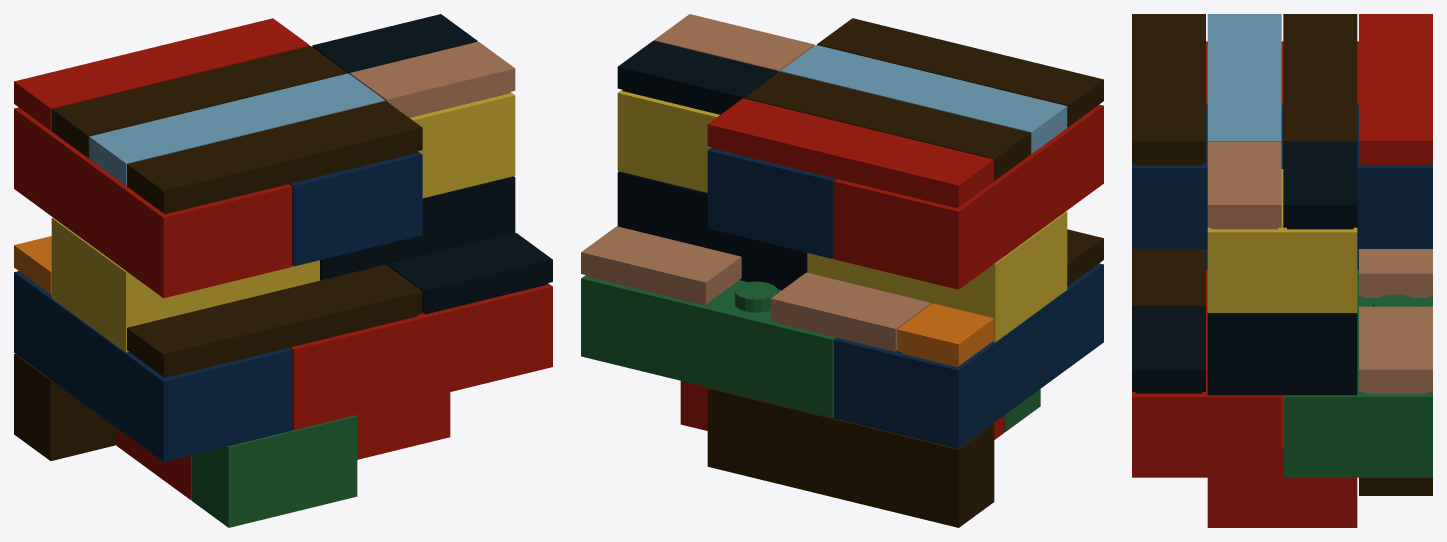
The picture shows the model from 3 angles, left to right: view 1: azimuth 30°, elevation 25°; view 2: azimuth 150°, elevation 25°; view 3: azimuth 270°, elevation 25°; orthographic projection. The views are drawn at different scales.
Parts seen in each view (by area): view 1: 3001_2.3001_2n_3001_2, box5_2.box5_2n_box5_2, 3001_5.3001_5n_3001_5, 3001_4.3001_4n_3001_4, box3u2p_5.box3u2p_5n_box3u2p_5, box3u2p_4.box3u2p_4n_box3u2p_4, box3u2p_6.box3u2p_6n_box3u2p_6, 2431_1.2431_1n_2431_1, 2431_3.2431_3n_2431_3, 2431_5.2431_5n_2431_5, 2431_2.2431_2n_2431_2, 2431_4.2431_4n_2431_4 (+21 smaller); view 2: box4t_1.box4t_1n_box4t_1, 3001_3.3001_3n_3001_3, 3001_4.3001_4n_3001_4, 3001_5.3001_5n_3001_5, box3u2p_5.box3u2p_5n_box3u2p_5, box3u2p_4.box3u2p_4n_box3u2p_4, 3002s01_1.3002s01_1n_3002s01_1, box3u2p_6.box3u2p_6n_box3u2p_6, 2431_4.2431_4n_2431_4, 2431_2.2431_2n_2431_2, 2431_3.2431_3n_2431_3, 2431_5.2431_5n_2431_5 (+21 smaller); view 3: box3u2p_3.box3u2p_3n_box3u2p_3, box5_13.box5_13n_box5_13, box3u2p_2.box3u2p_2n_box3u2p_2, 3002s01_2.3002s01_2n_3002s01_2, 3001_6.3001_6n_3001_6, 2431_3.2431_3n_2431_3, 2431_4.2431_4n_2431_4, 2431_5.2431_5n_2431_5, 2431_2.2431_2n_2431_2, box3u2p_1.box3u2p_1n_box3u2p_1, 3069b_4.3069b_4n_3069b_4, 3069b_3.3069b_3n_3069b_3 (+15 smaller).
Part boxes in pixels (<box>): 3001_2.3001_2n_3001_2: <box>294,286,552,429</box>; box5_2.box5_2n_box5_2: <box>192,415,357,527</box>; 3001_5.3001_5n_3001_5: <box>14,109,163,297</box>; 3001_4.3001_4n_3001_4: <box>14,272,163,461</box>; box3u2p_5.box3u2p_5n_box3u2p_5: <box>14,107,292,297</box>; box3u2p_4.box3u2p_4n_box3u2p_4: <box>14,271,292,461</box>; box3u2p_6.box3u2p_6n_box3u2p_6: <box>291,151,422,266</box>; 2431_1.2431_1n_2431_1: <box>127,264,422,354</box>; 2431_3.2431_3n_2431_3: <box>89,73,384,163</box>; 2431_5.2431_5n_2431_5: <box>14,18,309,108</box>; 2431_2.2431_2n_2431_2: <box>127,101,422,190</box>; 2431_4.2431_4n_2431_4: <box>52,46,346,135</box>; box4t_1.box4t_1n_box4t_1: <box>707,387,994,527</box>; 3001_3.3001_3n_3001_3: <box>581,278,832,417</box>; 3001_4.3001_4n_3001_4: <box>958,264,1103,448</box>; 3001_5.3001_5n_3001_5: <box>958,106,1103,289</box>; box3u2p_5.box3u2p_5n_box3u2p_5: <box>834,104,1103,289</box>; box3u2p_4.box3u2p_4n_box3u2p_4: <box>834,263,1103,448</box>; 3002s01_1.3002s01_1n_3002s01_1: <box>807,211,1067,342</box>; box3u2p_6.box3u2p_6n_box3u2p_6: <box>707,147,834,258</box>; 2431_4.2431_4n_2431_4: <box>744,71,1030,158</box>; 2431_2.2431_2n_2431_2: <box>817,18,1103,105</box>; 2431_3.2431_3n_2431_3: <box>781,45,1066,131</box>; 2431_5.2431_5n_2431_5: <box>708,98,993,185</box>; box3u2p_3.box3u2p_3n_box3u2p_3: <box>1283,269,1432,477</box>; box5_13.box5_13n_box5_13: <box>1207,169,1357,312</box>; box3u2p_2.box3u2p_2n_box3u2p_2: <box>1132,269,1281,477</box>; 3002s01_2.3002s01_2n_3002s01_2: <box>1207,313,1357,395</box>; 3001_6.3001_6n_3001_6: <box>1132,168,1432,248</box>; 2431_3.2431_3n_2431_3: <box>1207,14,1281,140</box>; 2431_4.2431_4n_2431_4: <box>1283,14,1357,140</box>; 2431_5.2431_5n_2431_5: <box>1359,14,1432,140</box>; 2431_2.2431_2n_2431_2: <box>1132,14,1205,140</box>; box3u2p_1.box3u2p_1n_box3u2p_1: <box>1207,395,1357,527</box>; 3069b_4.3069b_4n_3069b_4: <box>1359,306,1432,369</box>; 3069b_3.3069b_3n_3069b_3: <box>1132,306,1205,369</box>.
Size of the model in its own units: 1.2 by 1.04 by 0.795.
